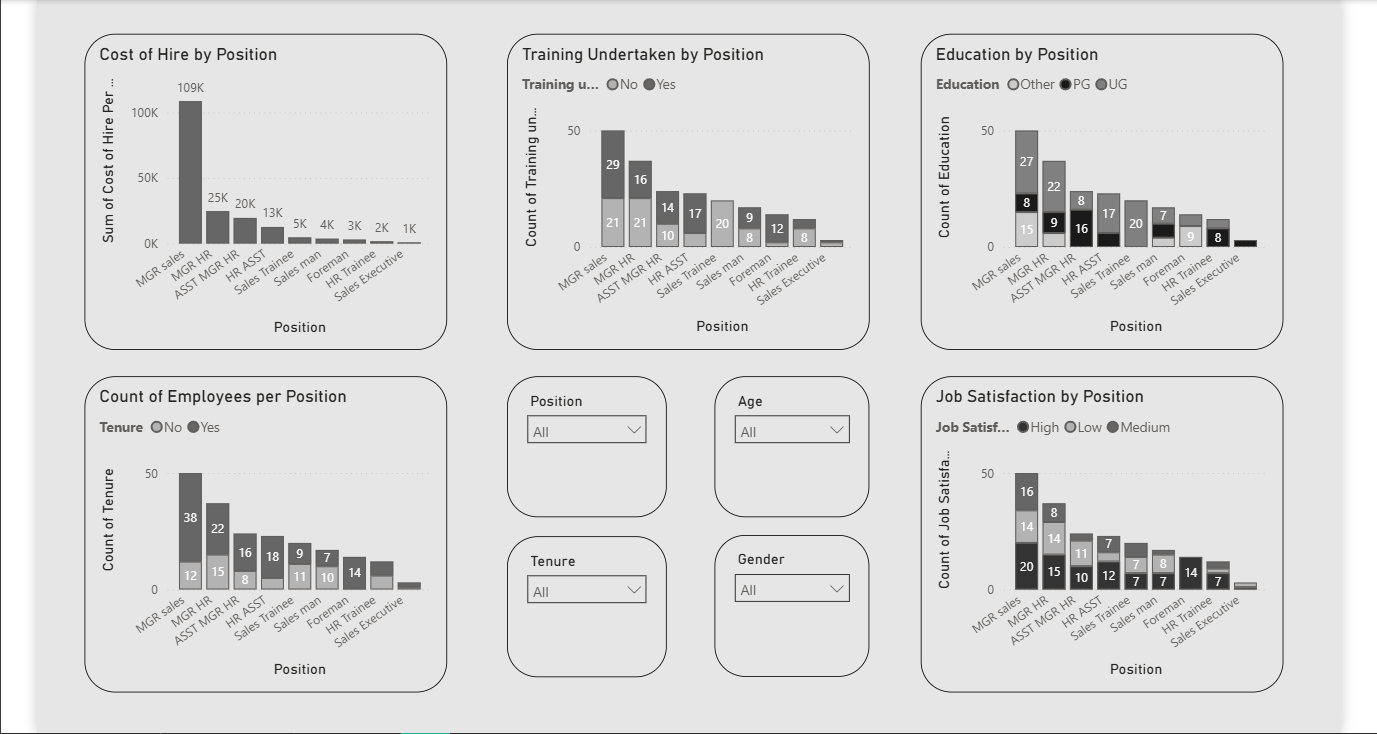

The dashboard page shown, as its layout file describes it:
{"tool":"powerbi","page":{"name":"Position","canvas":[1280,720],"ordinal":1},"visuals":[{"type":"columnChart","title":"Cost of Hire by Position","fields":{"Category":["Master Sheet.Position"],"Y":["Sum(Master Sheet.Cost of Hire Per Position Cost (in Rs))"]},"box":[46.5,32.6,355.8,310.5],"z":0},{"type":"columnChart","title":"Count of Employees per Position","fields":{"Category":["Master Sheet.Position"],"Y":["CountNonNull(Master Sheet.Tenure)"],"Series":["Master Sheet.Tenure"]},"box":[46.5,369.8,355.8,310.5],"z":1000},{"type":"columnChart","title":"Training Undertaken by Position","fields":{"Category":["Master Sheet.Position"],"Y":["CountNonNull(Master Sheet.Training undertaken)"],"Series":["Master Sheet.Training undertaken"]},"box":[461.6,32.6,355.8,310.5],"z":2000},{"type":"columnChart","title":"Education by Position","fields":{"Category":["Master Sheet.Position"],"Y":["CountNonNull(Master Sheet.Education)"],"Series":["Master Sheet.Education"]},"box":[867.4,32.6,355.8,310.5],"z":3000},{"type":"columnChart","title":"Job Satisfaction by Position","fields":{"Y":["CountNonNull(Master Sheet.Job Satisfaction)"],"Series":["Master Sheet.Job Satisfaction"],"Category":["Master Sheet.Position"]},"box":[867.4,369.8,355.8,310.5],"z":4000},{"type":"slicer","fields":{"Values":["Master Sheet.Position"]},"box":[461.6,369.8,157,138.4],"z":5000},{"type":"slicer","fields":{"Values":["Master Sheet.Age"]},"box":[665.1,369.8,152.3,138.4],"z":6000},{"type":"slicer","fields":{"Values":["Master Sheet.Gender"]},"box":[665.1,525.6,152.3,139.5],"z":7000},{"type":"slicer","fields":{"Values":["Master Sheet.Tenure"]},"box":[461.6,526.7,157,138.4],"z":8000}]}

Visuals, with their boxes in screenshot pixels (x1, y1, x2, y2):
"Cost of Hire by Position" columnChart: <region>86, 33, 445, 345</region>
"Count of Employees per Position" columnChart: <region>86, 372, 445, 685</region>
"Training Undertaken by Position" columnChart: <region>504, 33, 862, 345</region>
"Education by Position" columnChart: <region>913, 33, 1271, 345</region>
"Job Satisfaction by Position" columnChart: <region>913, 372, 1271, 685</region>
slicer - Master Sheet.Position: <region>504, 372, 662, 512</region>
slicer - Master Sheet.Age: <region>709, 372, 862, 512</region>
slicer - Master Sheet.Gender: <region>709, 529, 862, 670</region>
slicer - Master Sheet.Tenure: <region>504, 530, 662, 670</region>
